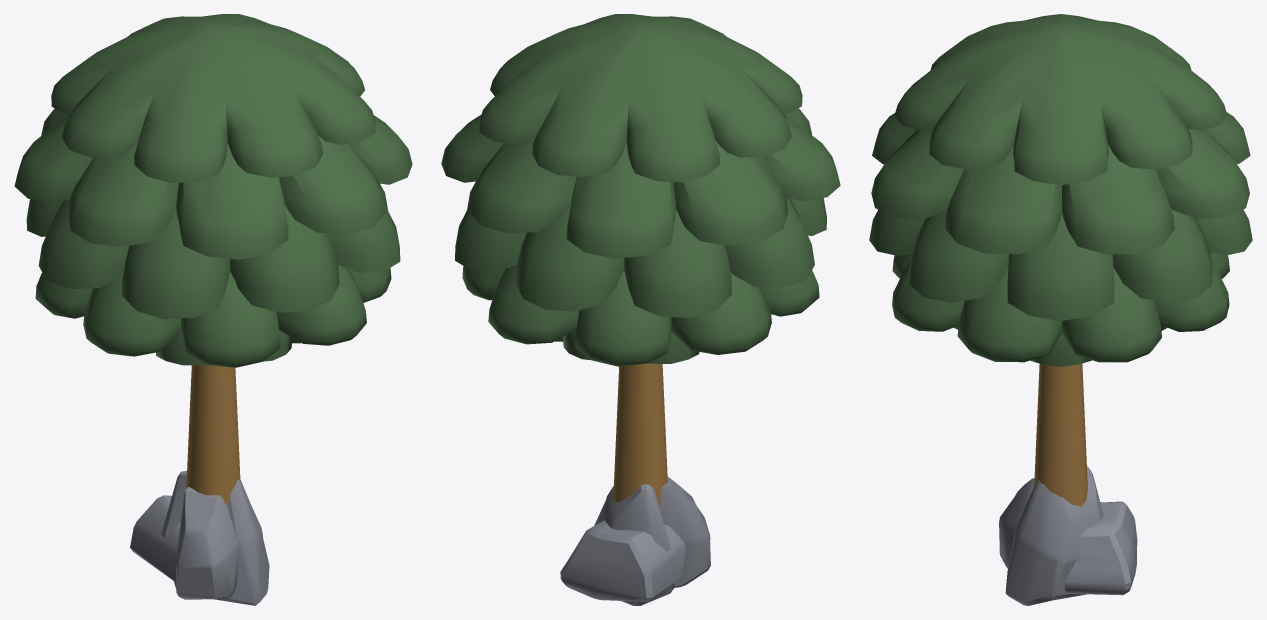
Rendered from tree1.glb.
The picture shows the model from 3 angles, left to right: view 1: azimuth 30°, elevation 25°; view 2: azimuth 150°, elevation 25°; view 3: azimuth 270°, elevation 25°; orthographic projection.
Parts seen in each view (by area): view 1: Tree, Rock_2, Rock_1; view 2: Tree, Rock_1, Rock_2; view 3: Tree, Rock_2, Rock_1.
Boxes of the visible parts, left/top/right/bottom form: Tree: left=14, top=14, right=412, bottom=507; Rock_2: left=161, top=471, right=269, bottom=605; Rock_1: left=130, top=495, right=180, bottom=582; Tree: left=441, top=14, right=840, bottom=509; Rock_1: left=560, top=520, right=685, bottom=601; Rock_2: left=594, top=476, right=710, bottom=605; Tree: left=869, top=14, right=1252, bottom=506; Rock_2: left=999, top=466, right=1103, bottom=605; Rock_1: left=1064, top=501, right=1137, bottom=595.
Size of the model in its own units: 5.53 by 9.05 by 5.55.
